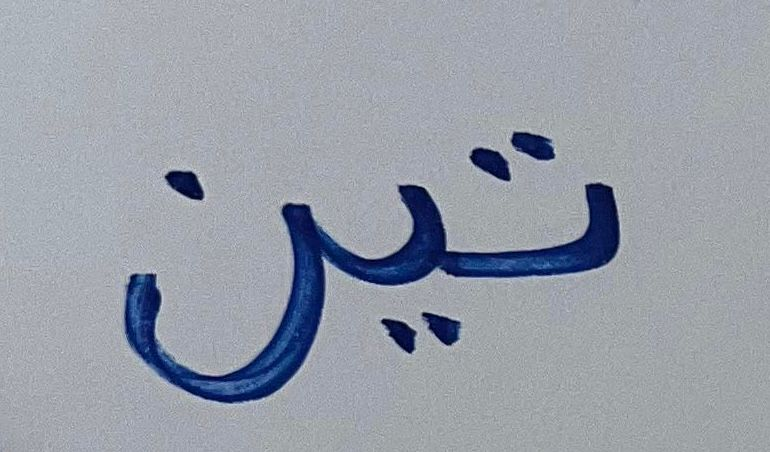noon: (96, 148, 328, 411), (467, 119, 631, 314)
yeh: (331, 168, 464, 371)
